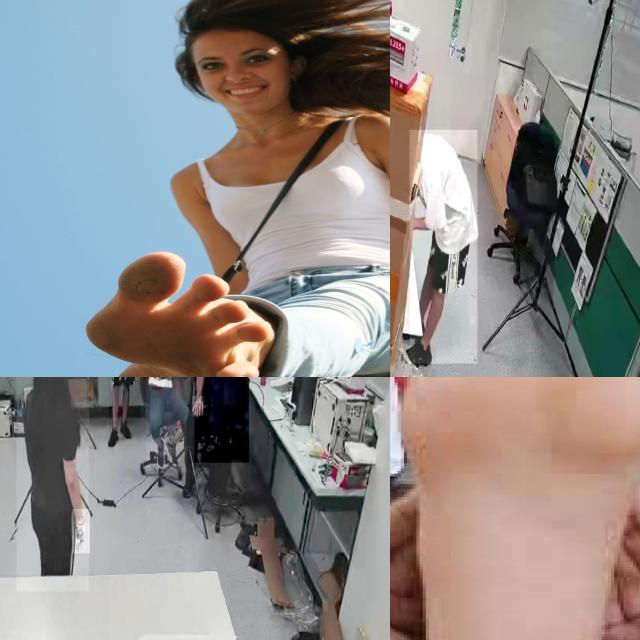Barefoots: (409, 377, 640, 640), (85, 251, 270, 377)
hand_glove: (73, 509, 91, 554)
hand_noglove: (192, 396, 204, 416)
person: (410, 130, 478, 364), (16, 377, 89, 592), (194, 377, 249, 463), (146, 377, 187, 473), (108, 377, 141, 446)
shoes: (404, 333, 436, 372), (164, 433, 182, 468), (106, 424, 120, 451), (155, 435, 165, 469), (119, 419, 133, 440)
